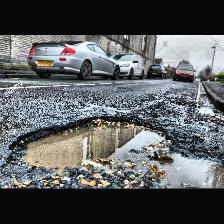pothole: (7, 114, 175, 182), (145, 148, 223, 188), (197, 106, 213, 114)
